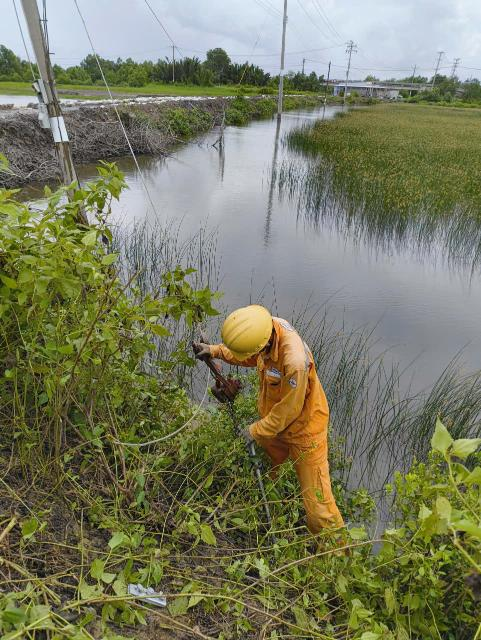gloves: (181, 338, 216, 363), (235, 424, 263, 446)
helmet: (223, 299, 277, 365)
